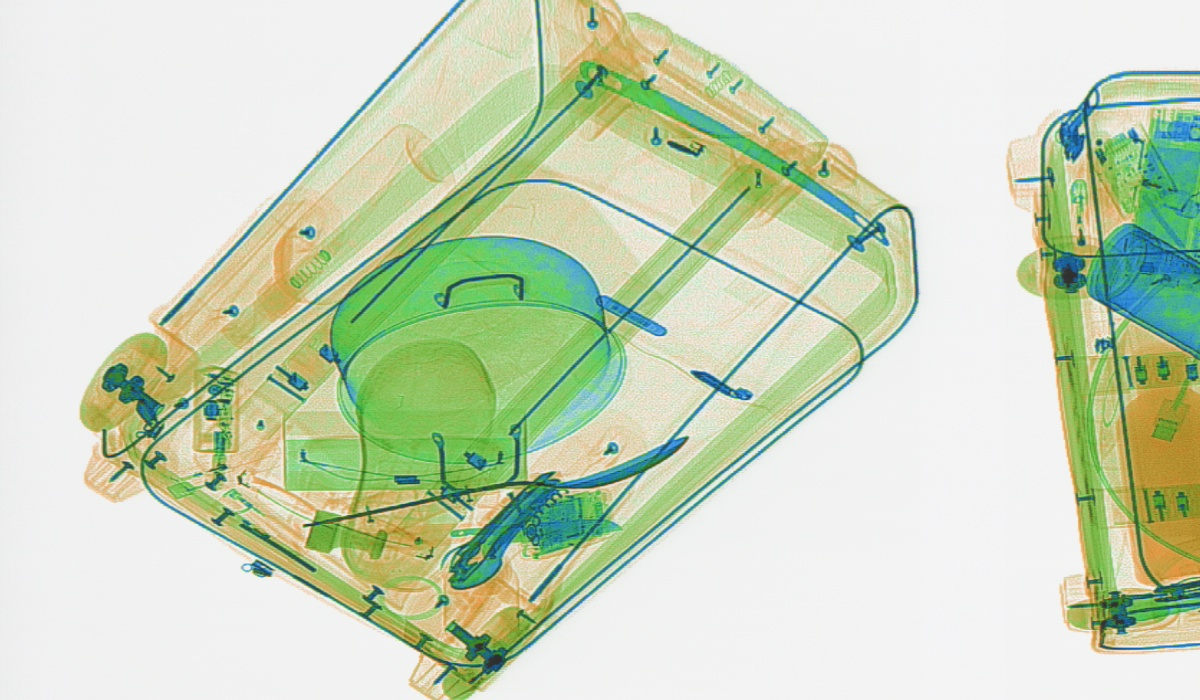knife: (441, 469, 558, 590), (400, 515, 622, 558)
lighter: (164, 449, 275, 504), (1105, 151, 1195, 215), (1063, 176, 1101, 297)
